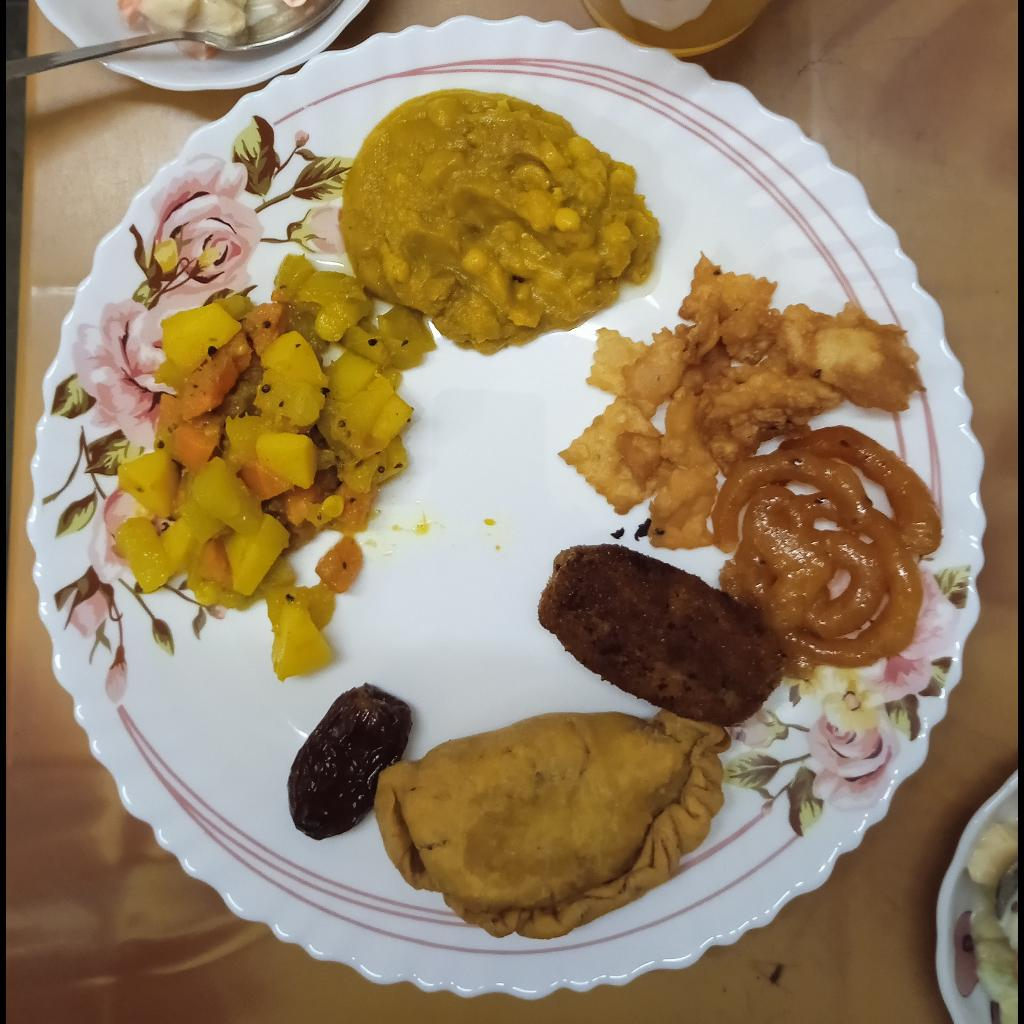chomchom: (559, 256, 924, 550)
chop-alu: (538, 545, 785, 725)
daal: (340, 90, 661, 355)
dates: (286, 686, 412, 840)
jilapi: (714, 426, 944, 682)
salad: (117, 0, 339, 59)
sweets: (373, 709, 734, 942)
vegetable: (115, 253, 434, 687)
